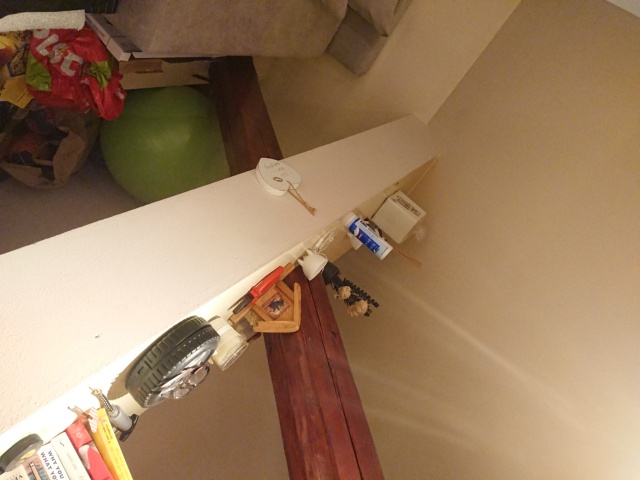Solana Pag Fine Sea Salt 250g: (337, 209, 396, 263)
